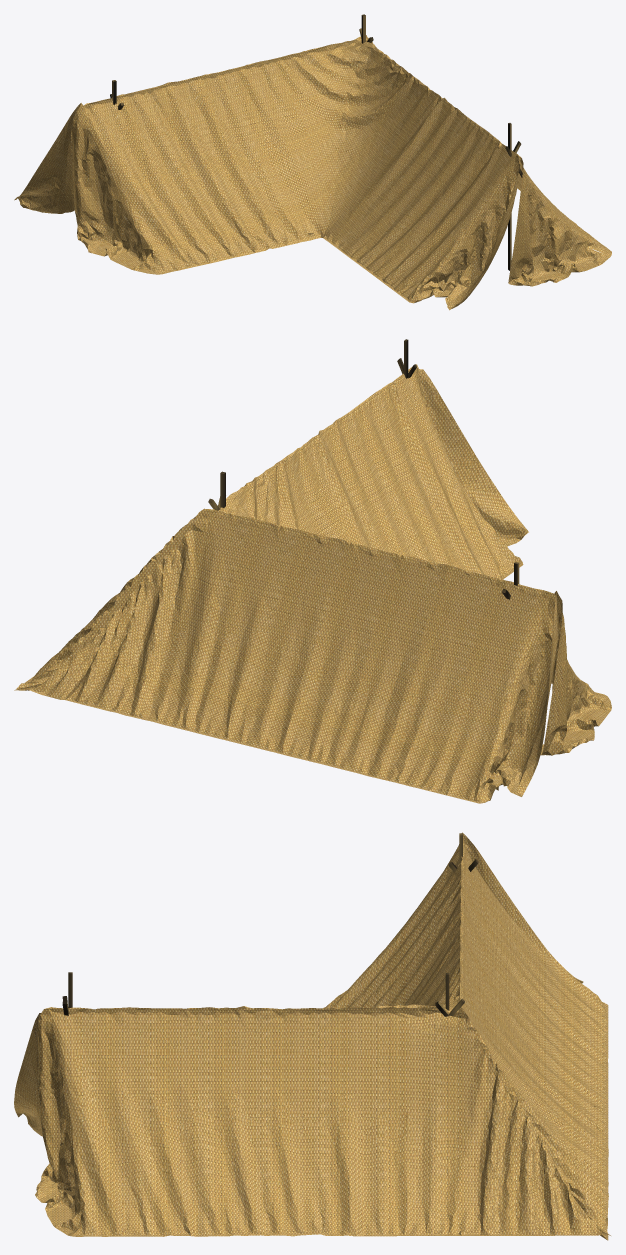
Rendered from tent.obj.
3 renders of one model, top to bottom at view 1: azimuth 30°, elevation 25°; view 2: azimuth 150°, elevation 25°; view 3: azimuth 270°, elevation 25°, orthographic. The views are drawn at different scales.
Parts seen in each view (by area): view 1: campsite_t; view 2: campsite_t; view 3: campsite_t.
Boxes of the visible parts, x1,y1,x2,y2 form: campsite_t: (14,14,611,310); campsite_t: (14,339,611,803); campsite_t: (14,832,610,1240).
Bounding box in the file's own units: 1.62 × 0.6114 × 1.63.
2 materials, 2 textured.
